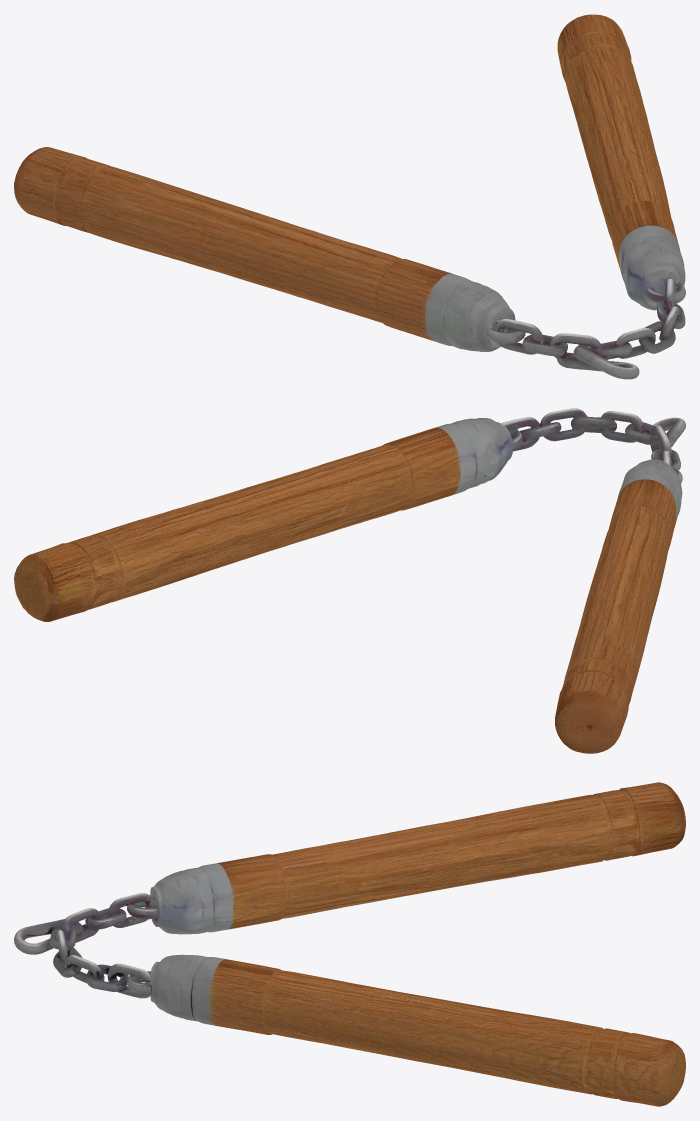
Rendered from nunchaku.glb.
3 renders of one model, top to bottom at view 1: azimuth 30°, elevation 25°; view 2: azimuth 150°, elevation 25°; view 3: azimuth 270°, elevation 25°, orthographic. The views are drawn at different scales.
Parts seen in each view (by area): view 1: Mesh_0; view 2: Mesh_0; view 3: Mesh_0.
Boxes of the visible parts, <box> form: Mesh_0: <box>14,14,685,379</box>; Mesh_0: <box>14,408,685,753</box>; Mesh_0: <box>14,782,685,1106</box>.
Size of the model in its own units: 1.9 by 0.1952 by 1.9.
1 material, 1 textured.
